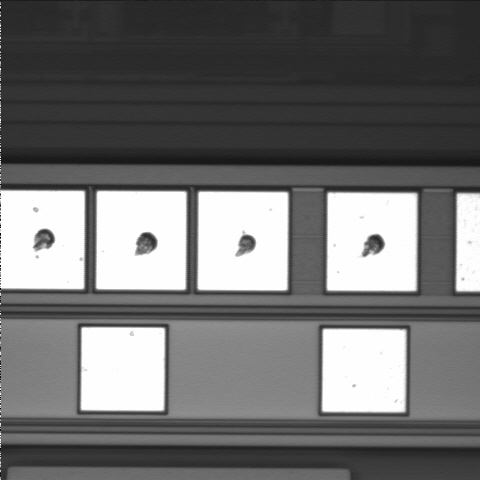pad: (96, 191, 186, 290), (198, 192, 288, 290), (327, 193, 417, 291), (81, 327, 165, 411), (322, 329, 406, 412)
